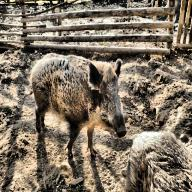boar: (29, 52, 127, 160), (123, 130, 192, 192)
